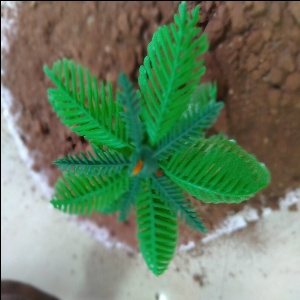plant: (35, 7, 264, 269)
